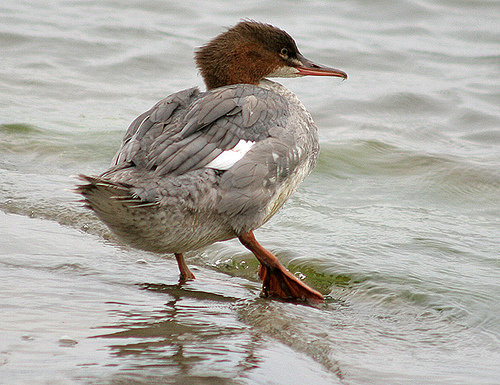duck: (60, 8, 363, 323)
